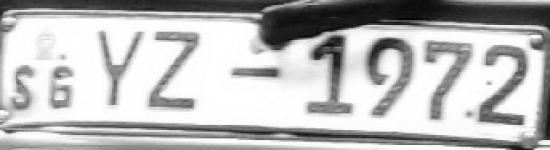-: (224, 58, 284, 90)
1: (301, 30, 358, 123)
2: (478, 41, 533, 131)
7: (415, 35, 474, 123)
9: (358, 32, 417, 122)
G: (40, 61, 80, 113)
S: (8, 64, 40, 112)
Y: (90, 23, 147, 112)
Z: (146, 27, 202, 116)
